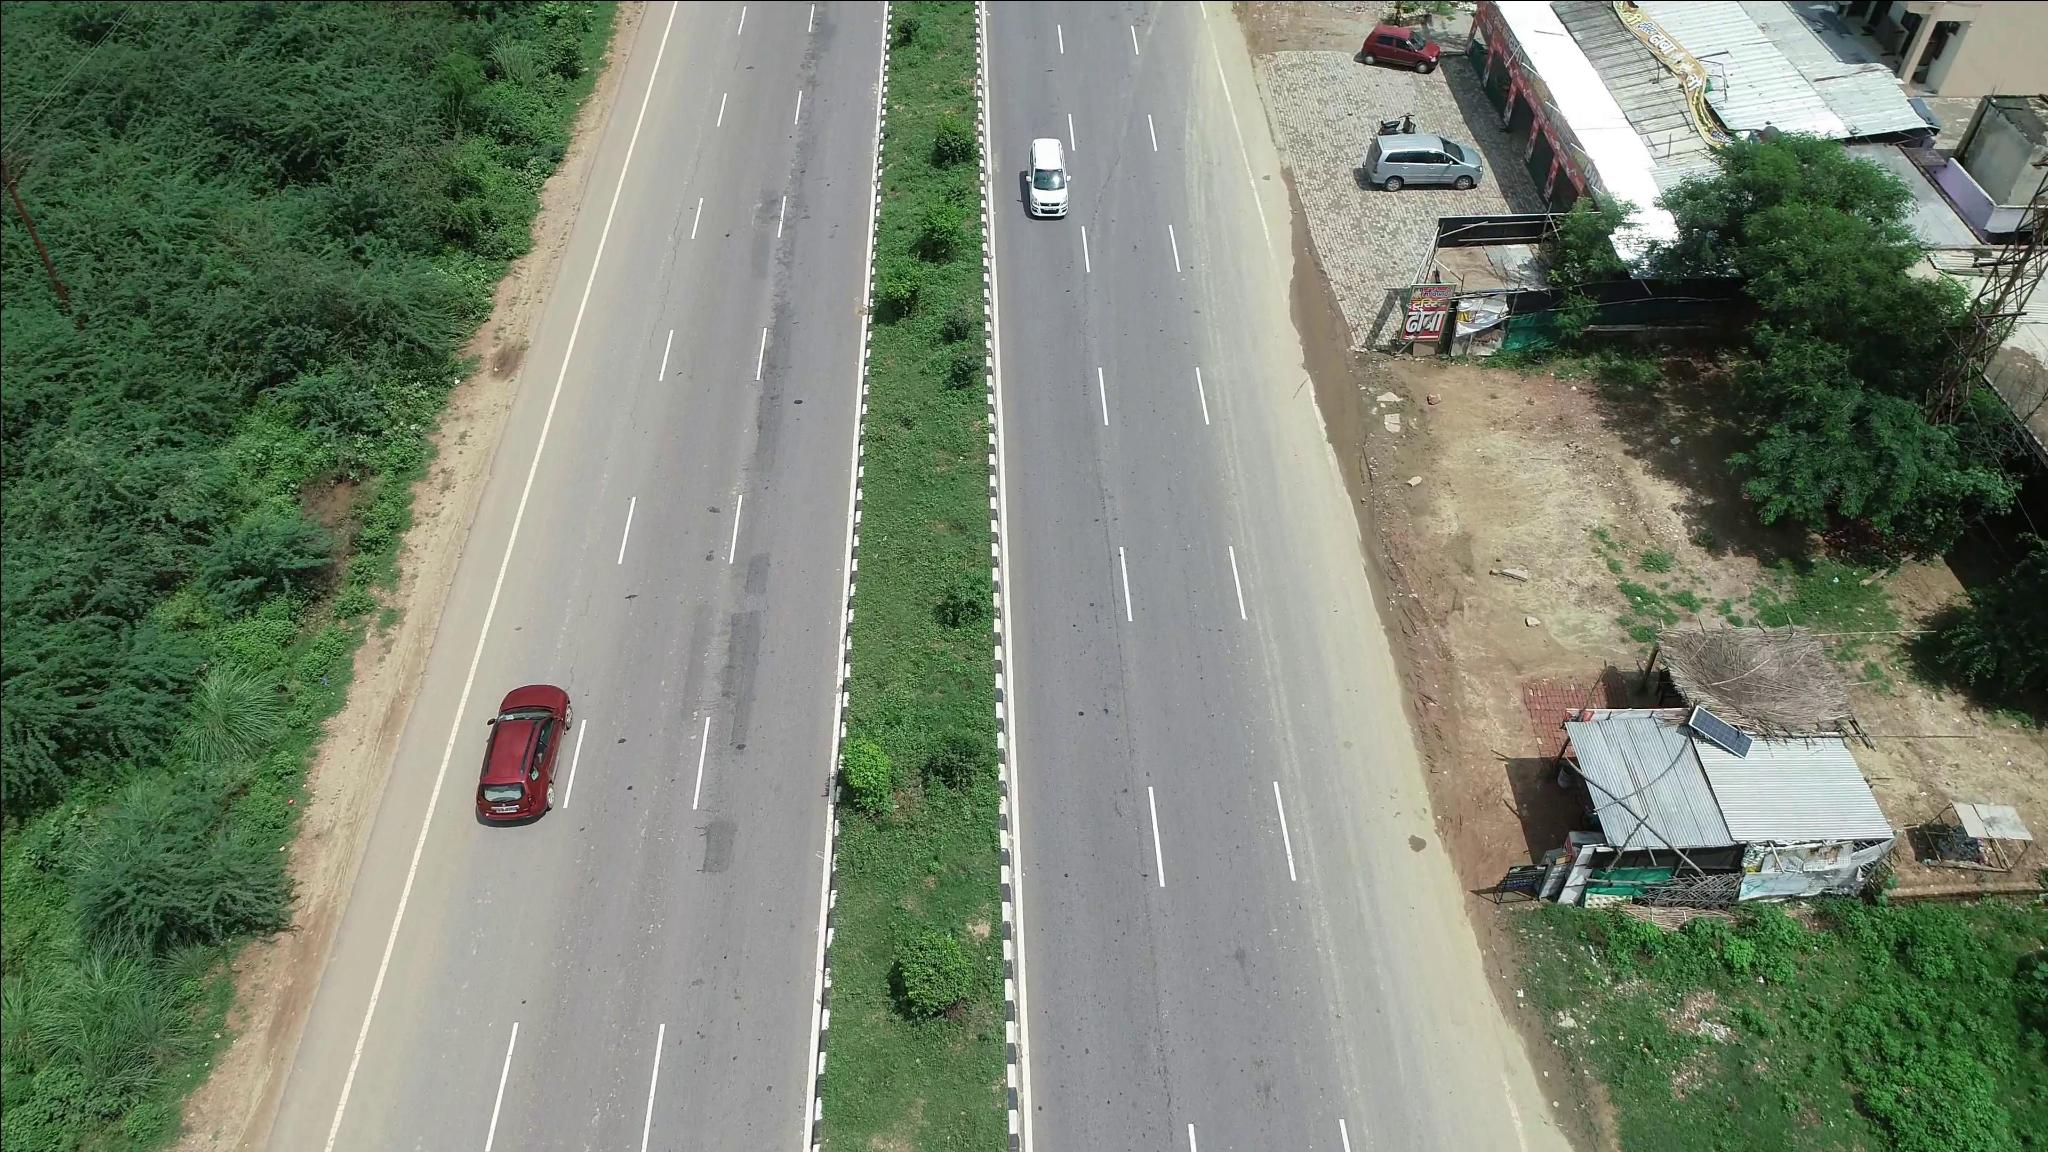Cracks: (646, 179, 693, 333)
